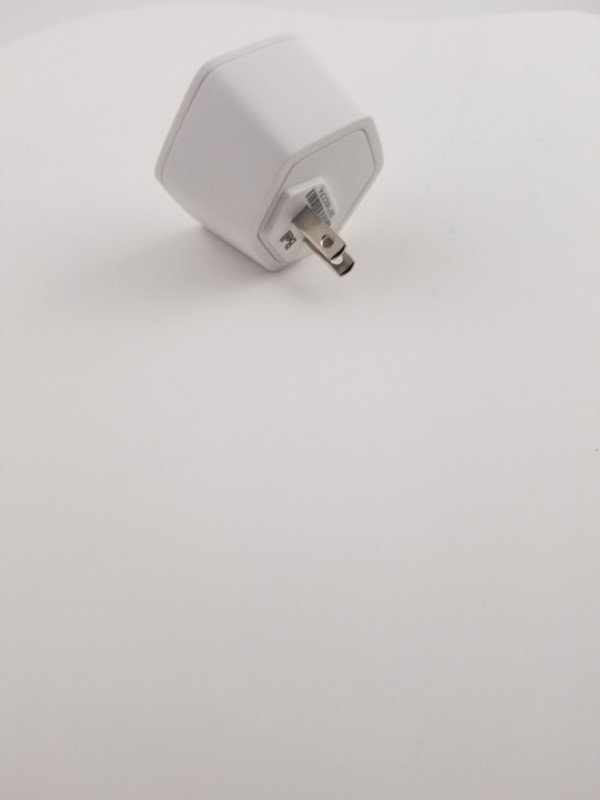pod: (152, 27, 393, 299)
